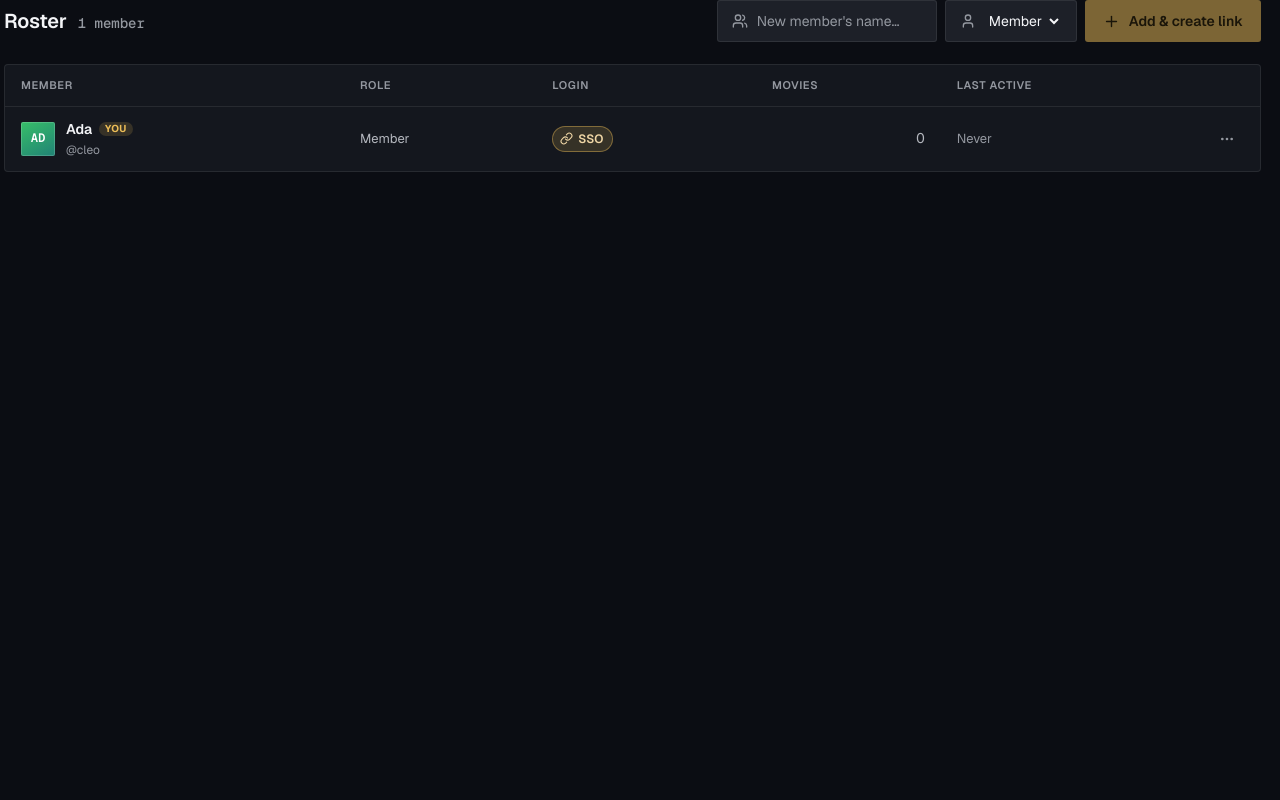
Test: opening a ceremony from a member's row › guards a self-unlink that would strand the account, instead of sending it
Click the button named "Actions for Ada" at (1227, 138), box [1210,122,1244,156]
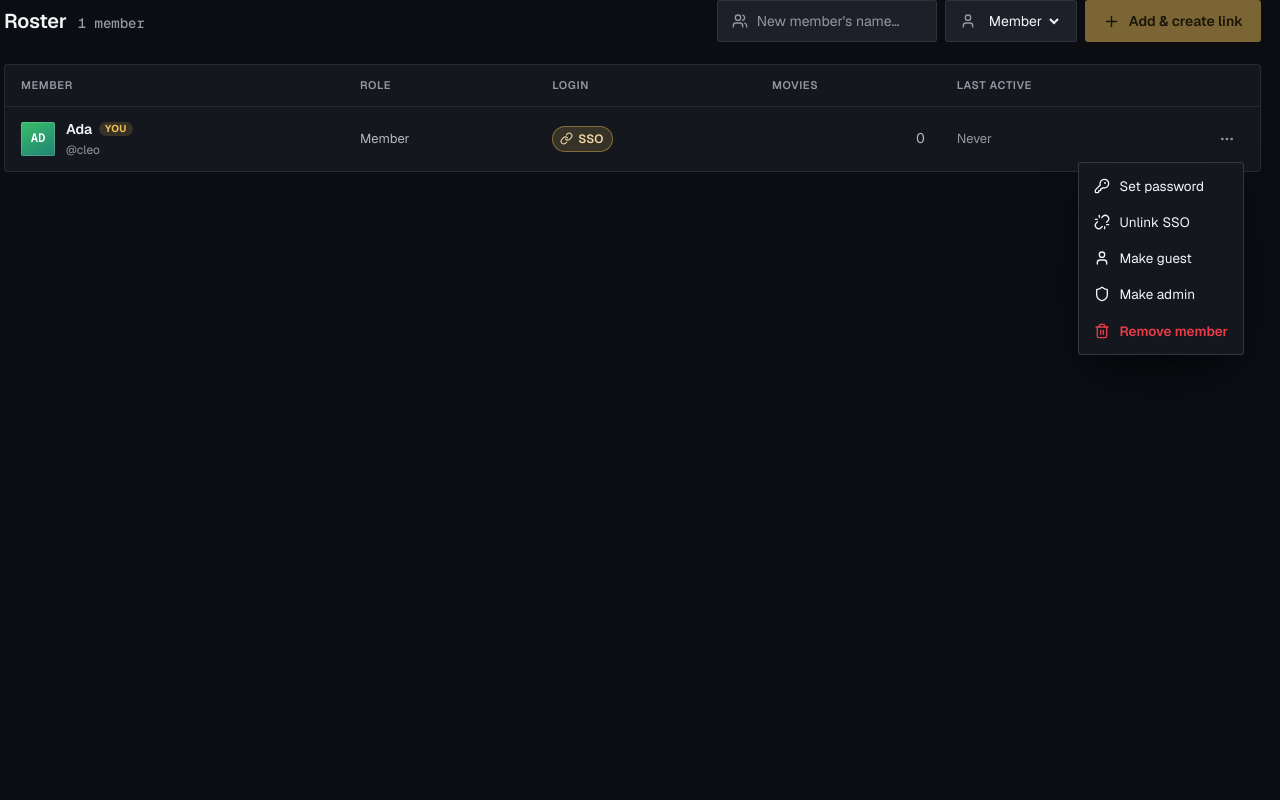
Click the menu item "Unlink SSO" at (1161, 222), box [1084,204,1238,240]
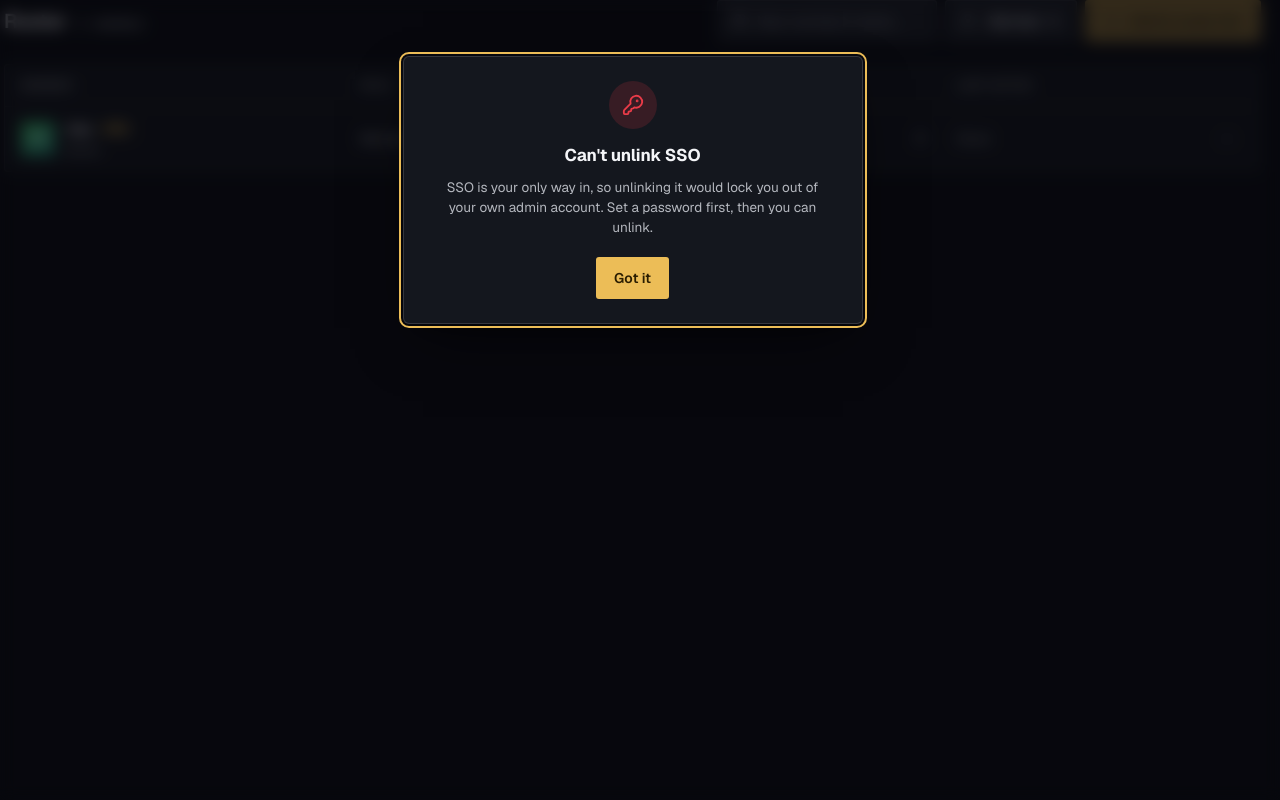
Now the dialog shows "Can't unlink SSO", box [565,144,700,166]
